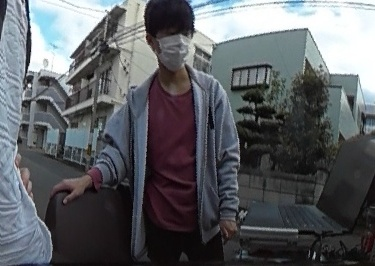person: (81, 0, 239, 266)
